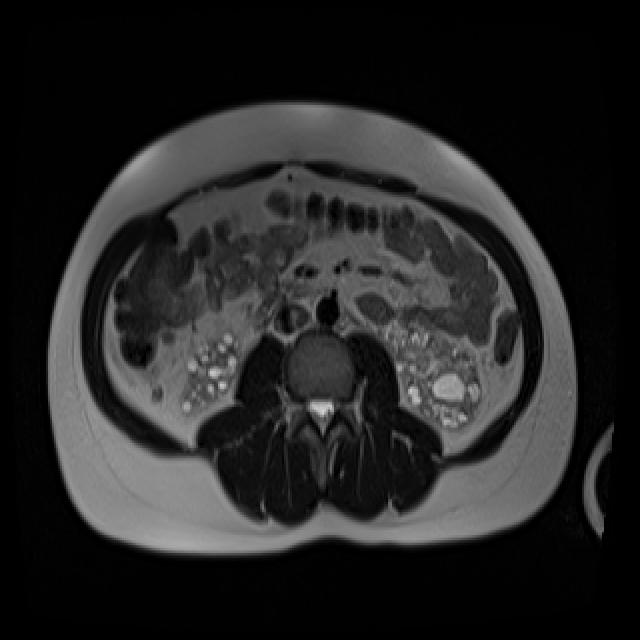sag: (178, 329, 242, 417)
sol: (380, 321, 482, 431)
